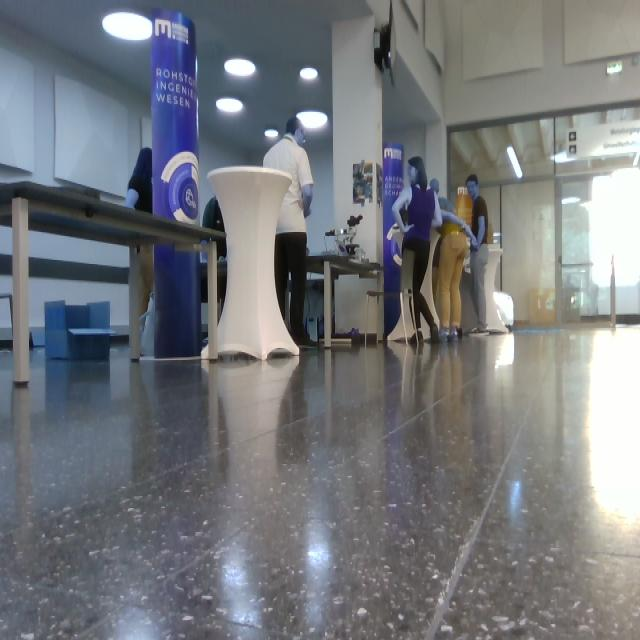door: (562, 170, 640, 322), (503, 181, 556, 325)
light bulb: (103, 13, 152, 41), (225, 58, 256, 77), (297, 112, 328, 130), (509, 146, 522, 178), (217, 98, 243, 113), (300, 68, 318, 81), (607, 61, 623, 74), (265, 129, 279, 140)
person: (264, 117, 313, 345), (393, 157, 442, 342), (434, 200, 473, 340), (467, 176, 488, 333), (126, 148, 152, 213), (139, 246, 153, 316)
pillar: (209, 168, 299, 360), (333, 17, 383, 262), (152, 10, 199, 224), (155, 245, 200, 356), (336, 276, 383, 338)
table: (1, 168, 298, 382)
tiled floor: (1, 329, 640, 640)
